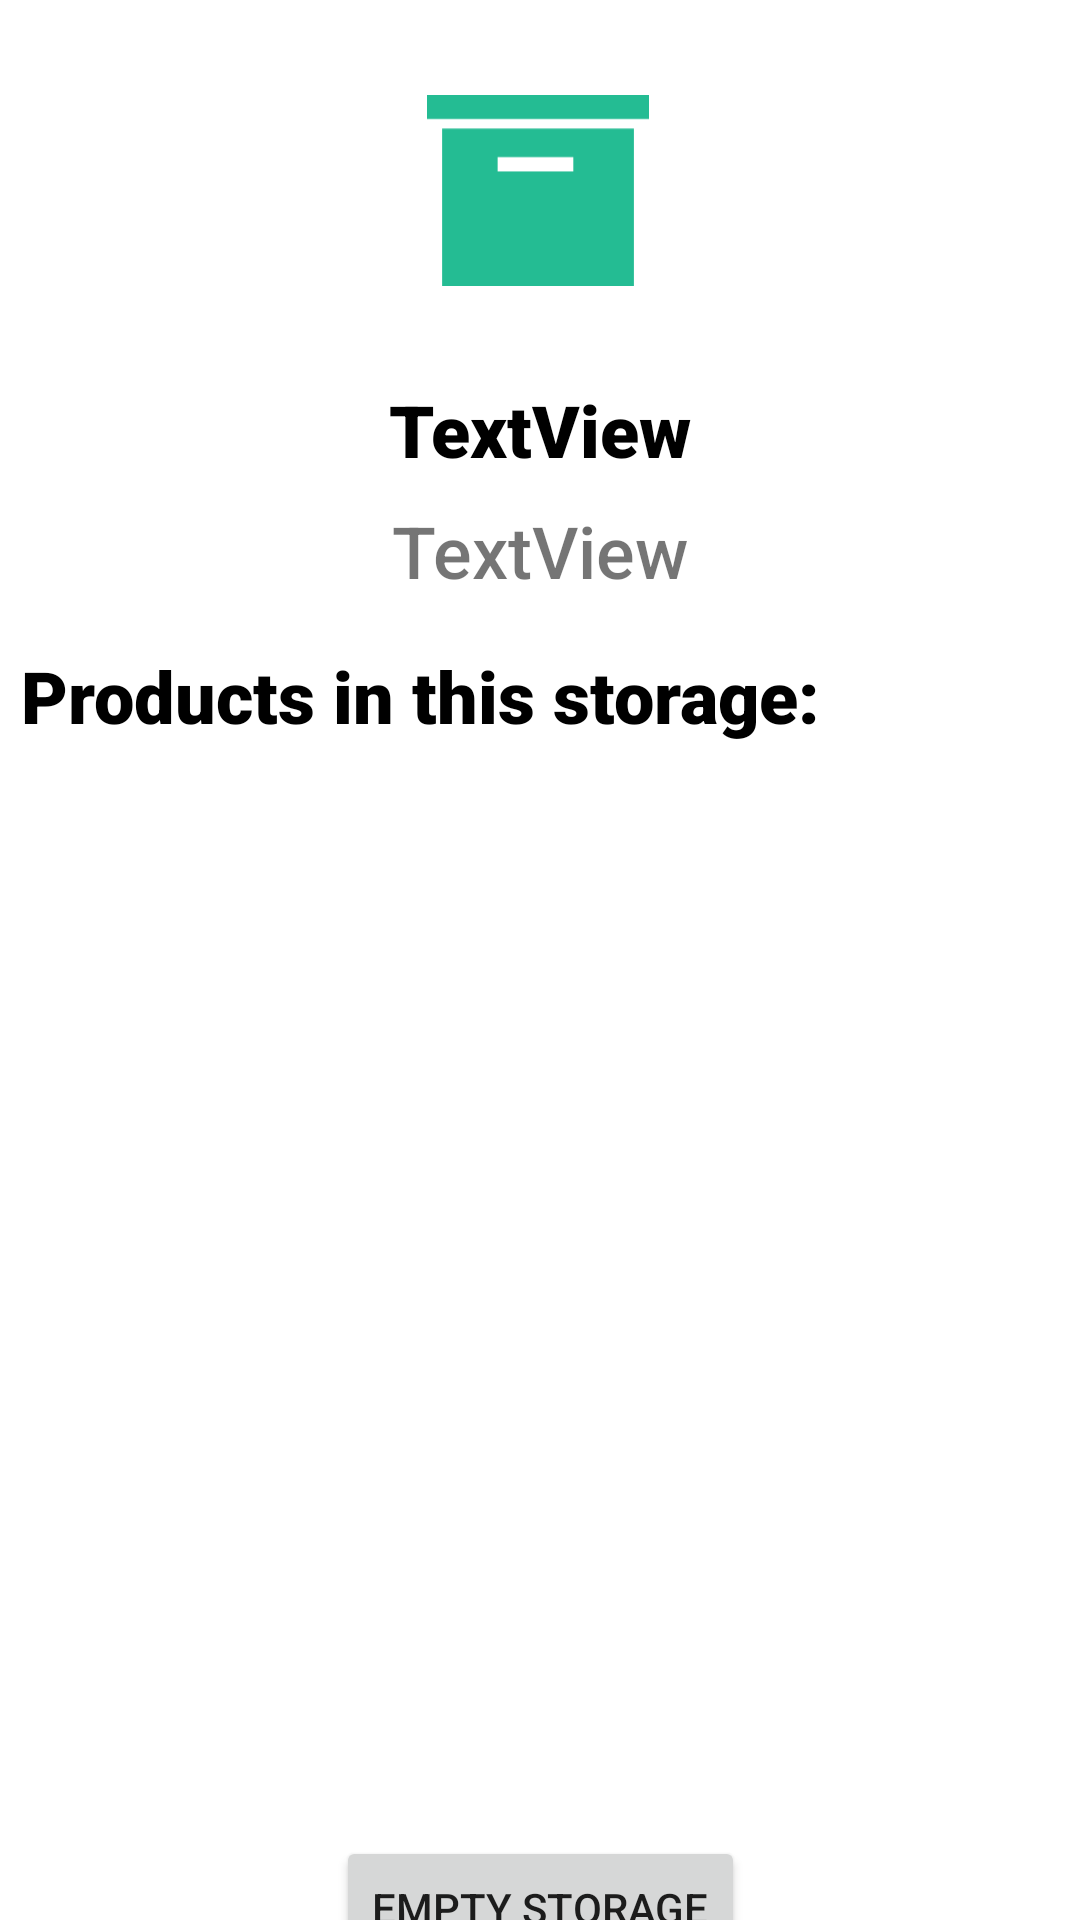

Where icons sit on this 1080px x 1920px app screen, as (x1, y1, x2, y2):
map storage: (427, 95, 649, 286)
